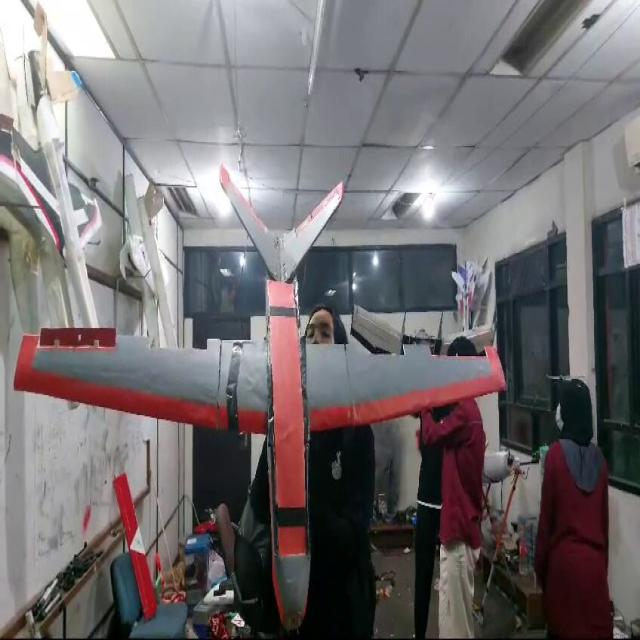plane: (13, 162, 506, 633)
